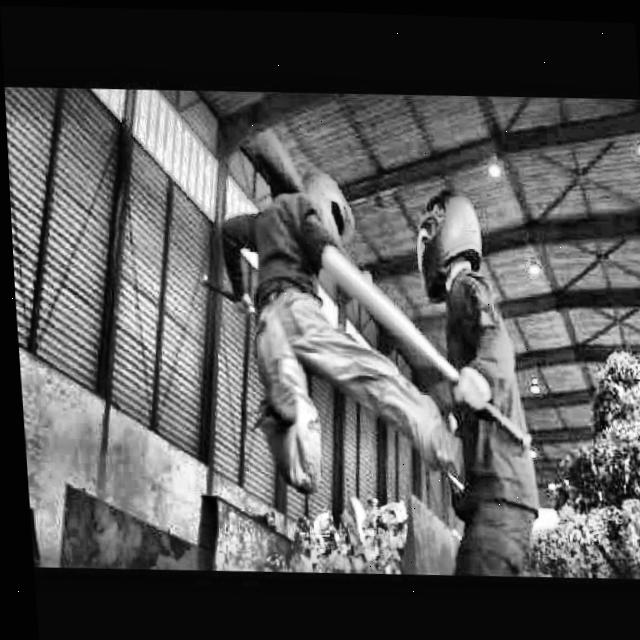robbery: (198, 171, 550, 583)
tongkat pemukul: (319, 242, 534, 457)
